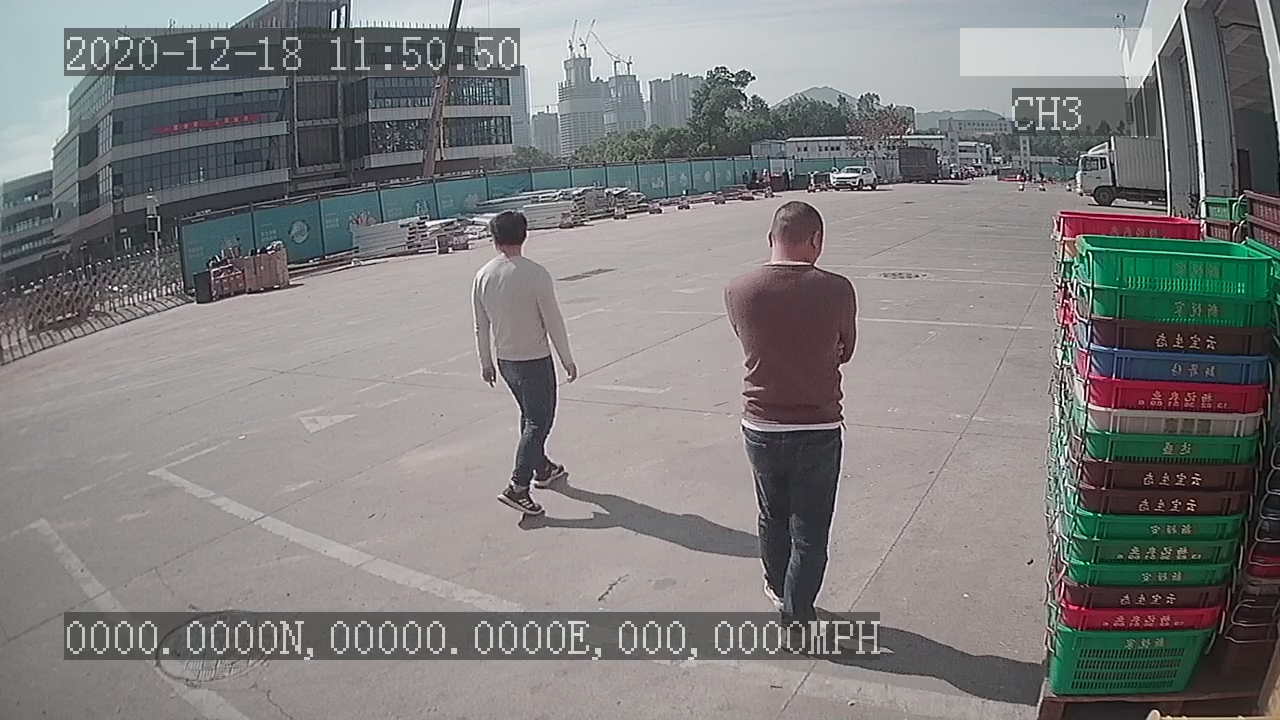person: (465, 204, 583, 519)
